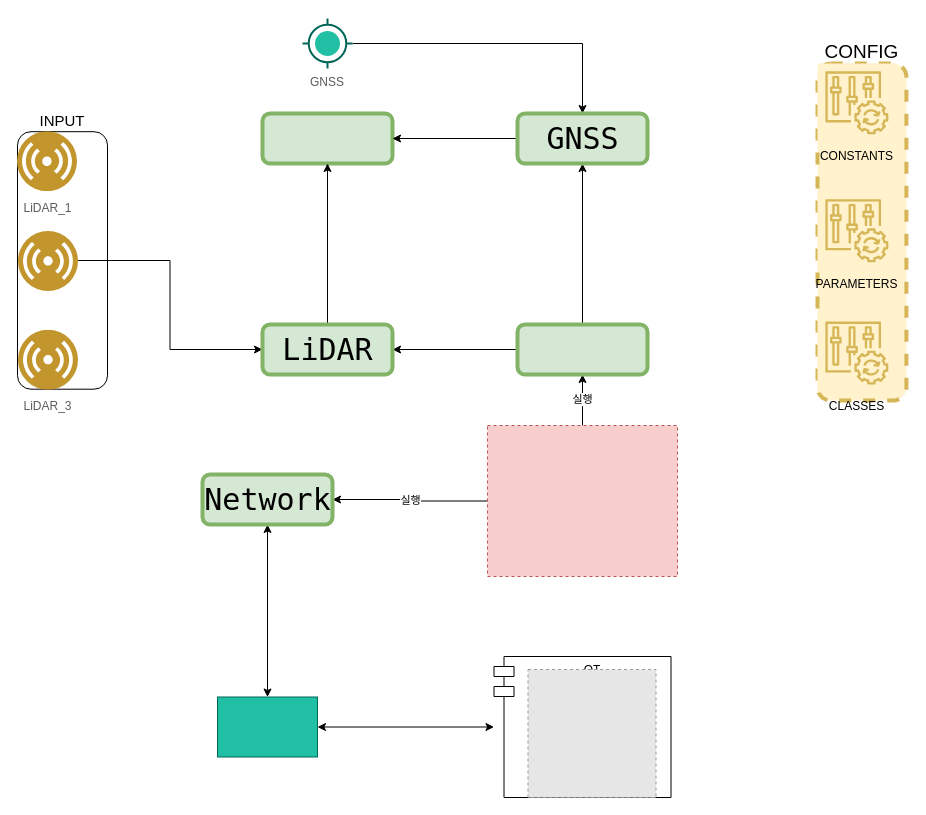
The diagram is 926 pixels wide and 815 high, and some of its shapes have lost their labels. Grey dashed boxes stand in for pictures. Each missing label, with the box of its shape:
COMMAND: (216, 696, 318, 757)
Driver: (515, 322, 649, 376)
LiDAR_2: (17, 230, 77, 290)
Parser: (260, 111, 394, 165)
Run: (486, 424, 678, 576)
